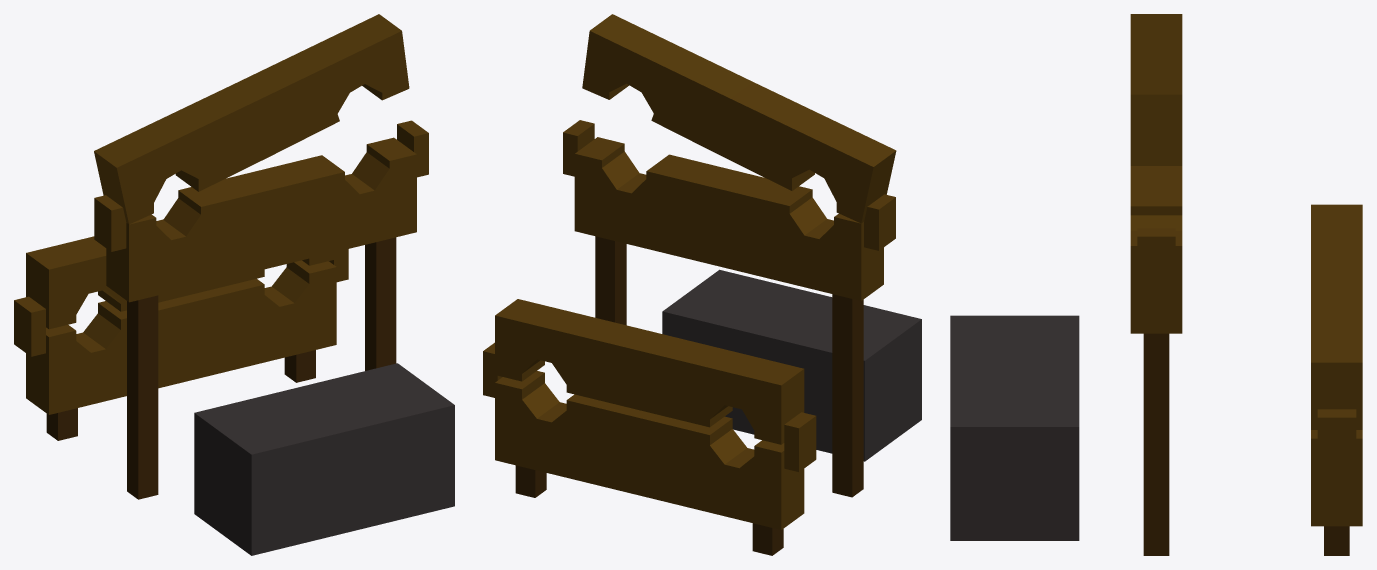
Rendered from obj_stocks_0.obj.
3 renders of one model, left to right at view 1: azimuth 30°, elevation 25°; view 2: azimuth 150°, elevation 25°; view 3: azimuth 270°, elevation 25°, orthographic. The views are drawn at different scales.
Size of the model in its own units: 1 by 1.23 by 1.
